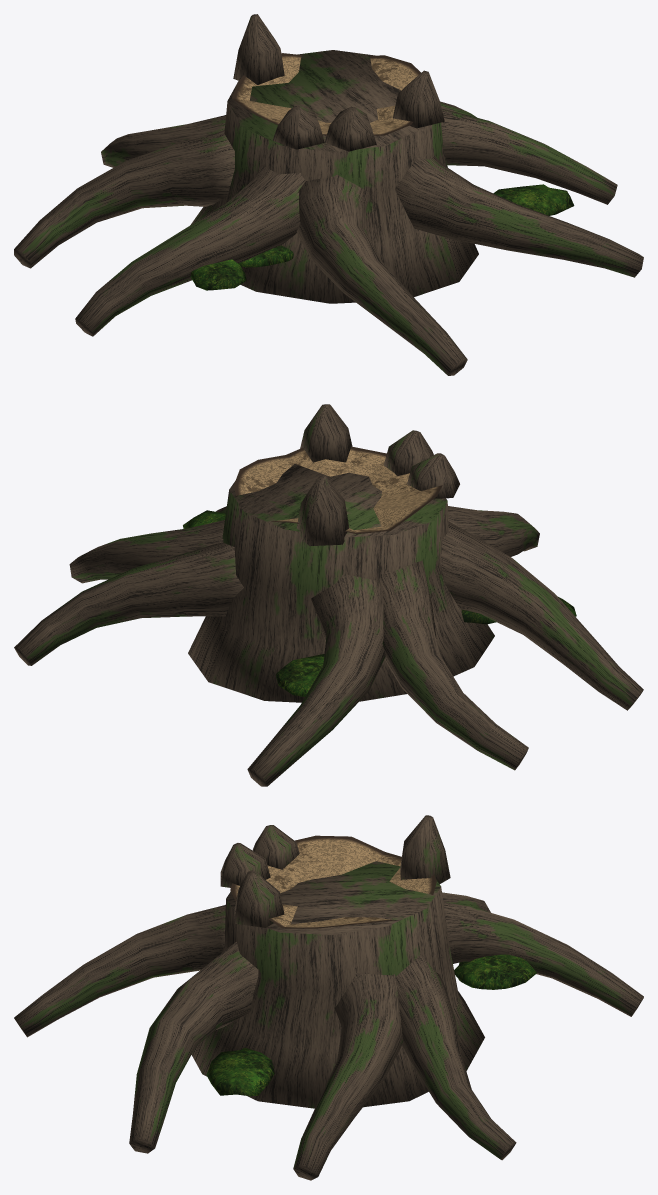
File: Tree_Stump_A.glb
3 views of the same model, one above another, from view 1: azimuth 30°, elevation 25°; view 2: azimuth 150°, elevation 25°; view 3: azimuth 270°, elevation 25° (orthographic). The views are drawn at different scales.
Parts seen in each view (by area): view 1: Tree_Stump_A__Bark, Tree_Stump_A__Ends, Tree_Stump_A__Moss; view 2: Tree_Stump_A__Bark, Tree_Stump_A__Ends, Tree_Stump_A__Moss; view 3: Tree_Stump_A__Bark, Tree_Stump_A__Ends, Tree_Stump_A__Moss.
Part boxes in pixels (x1=…): Tree_Stump_A__Bark: x1=14, y1=14, x2=643, y2=375; Tree_Stump_A__Ends: x1=232, y1=53, x2=420, y2=135; Tree_Stump_A__Moss: x1=190, y1=184, x2=574, y2=290; Tree_Stump_A__Bark: x1=14, y1=404, x2=643, y2=786; Tree_Stump_A__Ends: x1=233, y1=446, x2=442, y2=534; Tree_Stump_A__Moss: x1=183, y1=510, x2=576, y2=696; Tree_Stump_A__Bark: x1=14, y1=815, x2=643, y2=1180; Tree_Stump_A__Ends: x1=230, y1=835, x2=436, y2=928; Tree_Stump_A__Moss: x1=206, y1=954, x2=536, y2=1096.
Bounding box in the file's own units: 18.24 × 6.95 × 17.95.
Materials: 3 (3 with a texture image).
